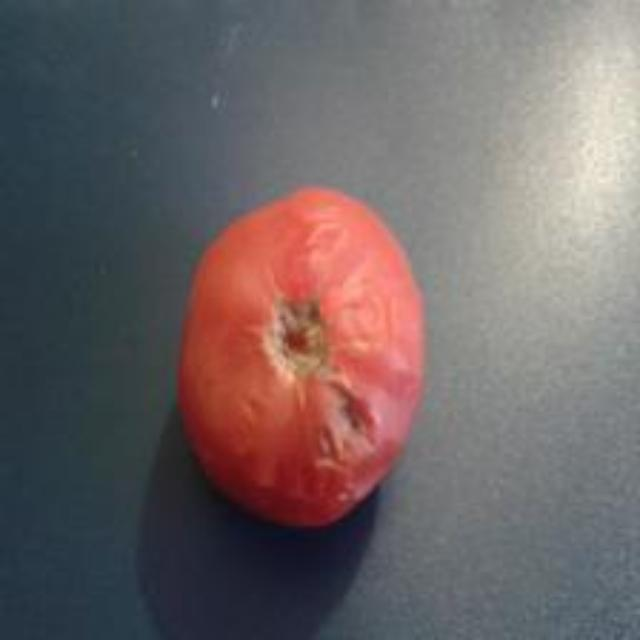defect: (172, 184, 429, 535)
